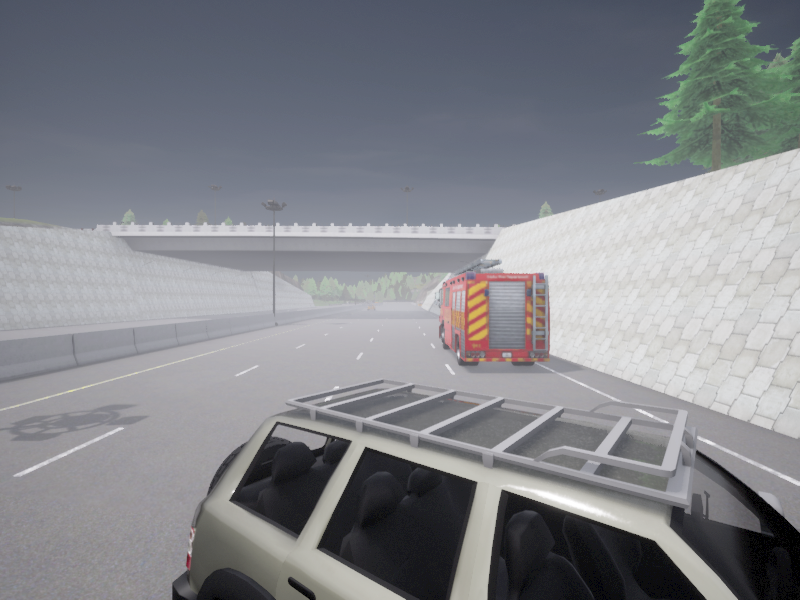vehicle: (172, 378, 799, 599), (435, 259, 549, 365), (367, 304, 375, 309)
